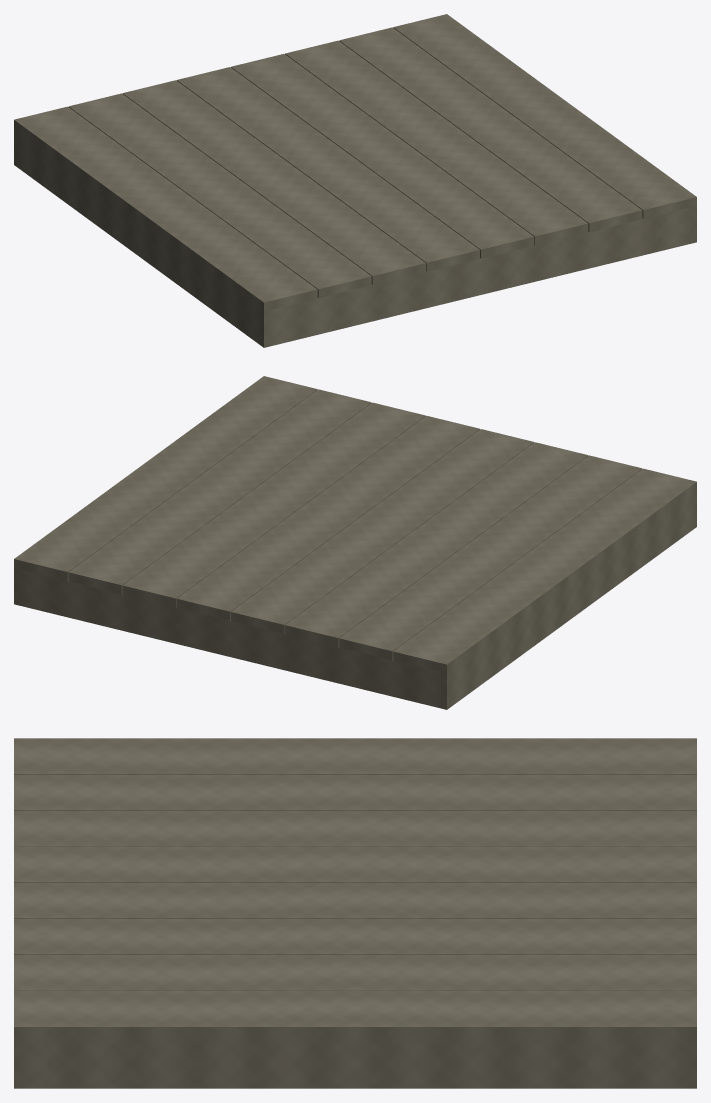
File: MRP_Floor_1x1m.fbx
3 views of the same model, one above another, from view 1: azimuth 30°, elevation 25°; view 2: azimuth 150°, elevation 25°; view 3: azimuth 270°, elevation 25° (orthographic). The views are drawn at different scales.
Parts seen in each view (by area): view 1: Body; view 2: Body; view 3: Body.
Part boxes in pixels (bbox=[...]): Body: bbox=[14, 14, 696, 347]; Body: bbox=[14, 376, 696, 709]; Body: bbox=[14, 738, 696, 1088].
Size of the model in its own units: 1 by 0.1 by 1.
